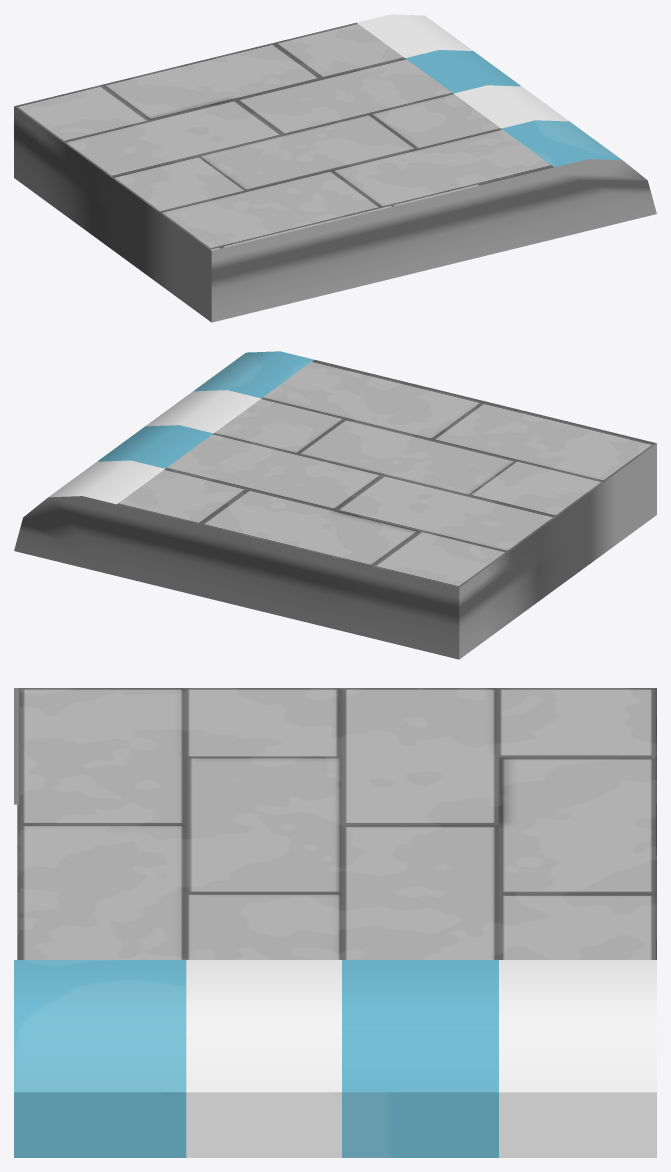
Rendered from Mod_TileRoad_01.fbx.
3 renders of one model, top to bottom at view 1: azimuth 30°, elevation 25°; view 2: azimuth 150°, elevation 25°; view 3: azimuth 270°, elevation 25°, orthographic. The views are drawn at different scales.
Visible parts, largest first — view 1: Mod_TileRoad_01; view 2: Mod_TileRoad_01; view 3: Mod_TileRoad_01.
Part boxes in pixels (x1,y1,x2,y2): Mod_TileRoad_01: (14, 14, 656, 322); Mod_TileRoad_01: (14, 351, 656, 659); Mod_TileRoad_01: (14, 688, 656, 1157).
Size of the model in its own units: 130 by 20 by 100.
